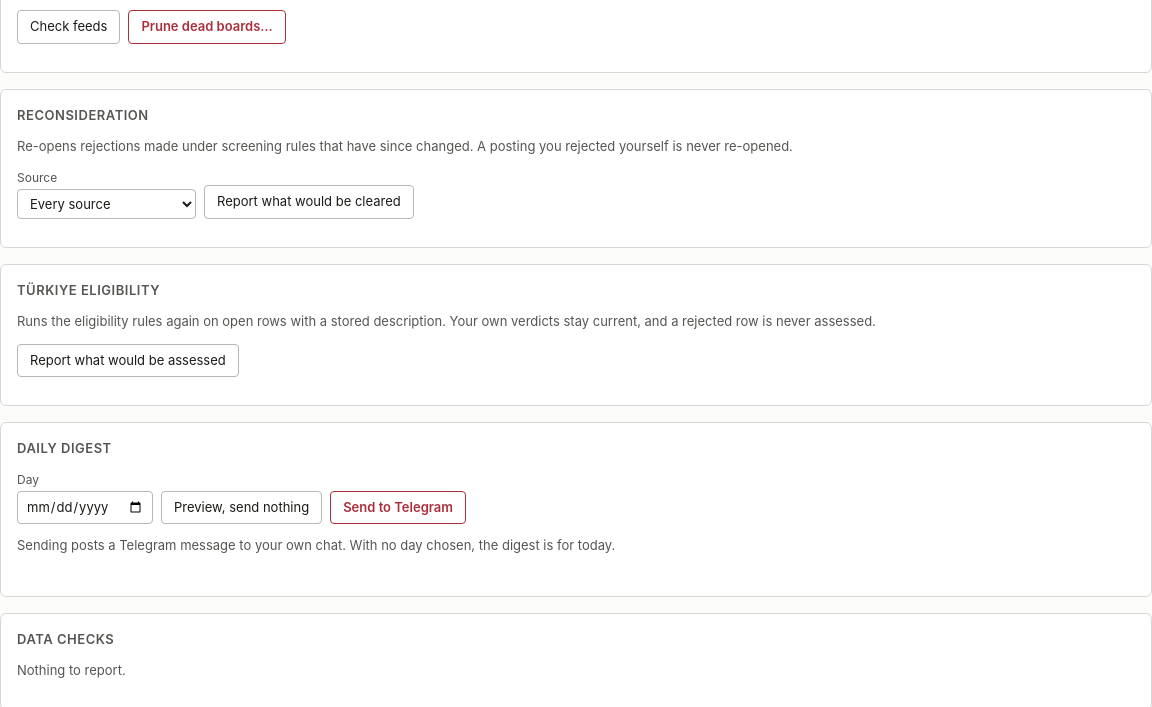
it: reassess reports before it writes
The image size is (1152, 707).
(page scrolled)
Expected: the button "Assess what the report found" is not shown
Click the button "Report what would be assessed".
click(128, 361)  # box x1=17 y1=344 x2=239 y2=377
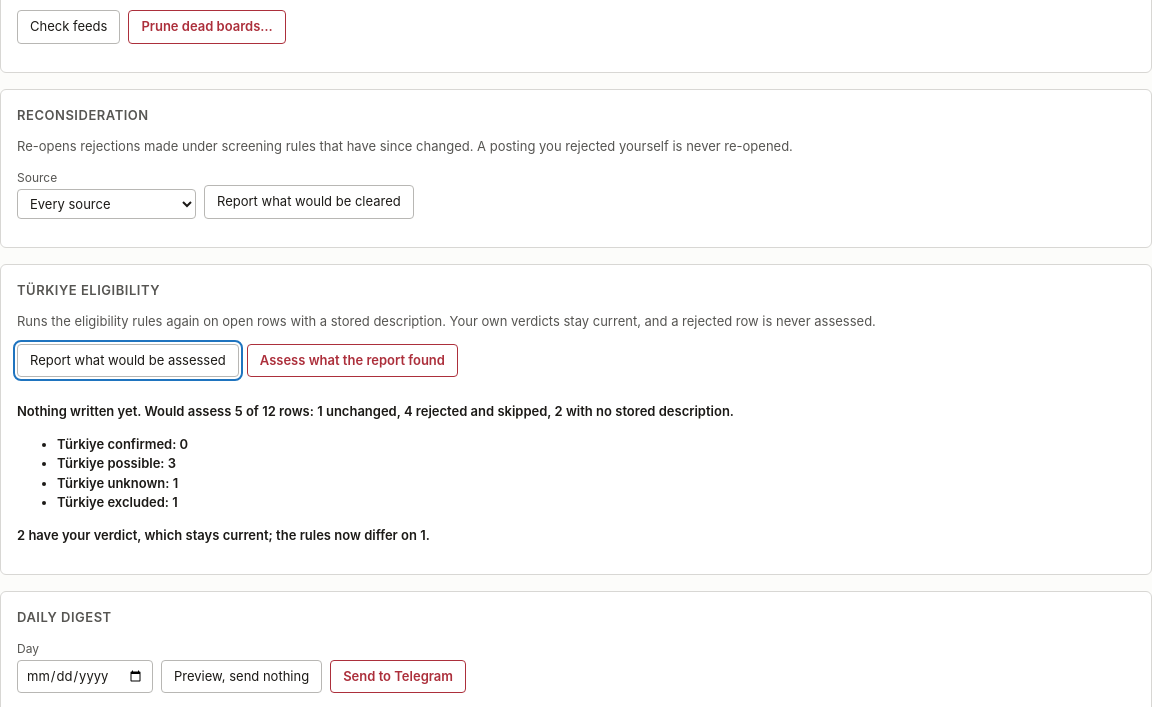
Now the message named "Eligibility report" shows "Nothing written yet.", box x1=17 y1=403 x2=144 y2=419
Now the message named "Eligibility report" shows "Would assess 5 of 12 rows", box x1=17 y1=403 x2=734 y2=543
Now the message named "Eligibility report" shows "4 rejected and skipped", box x1=17 y1=403 x2=734 y2=543
